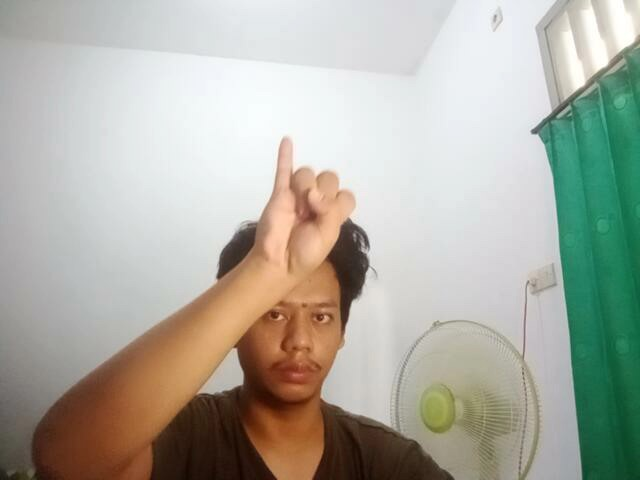I: (243, 130, 361, 272)
